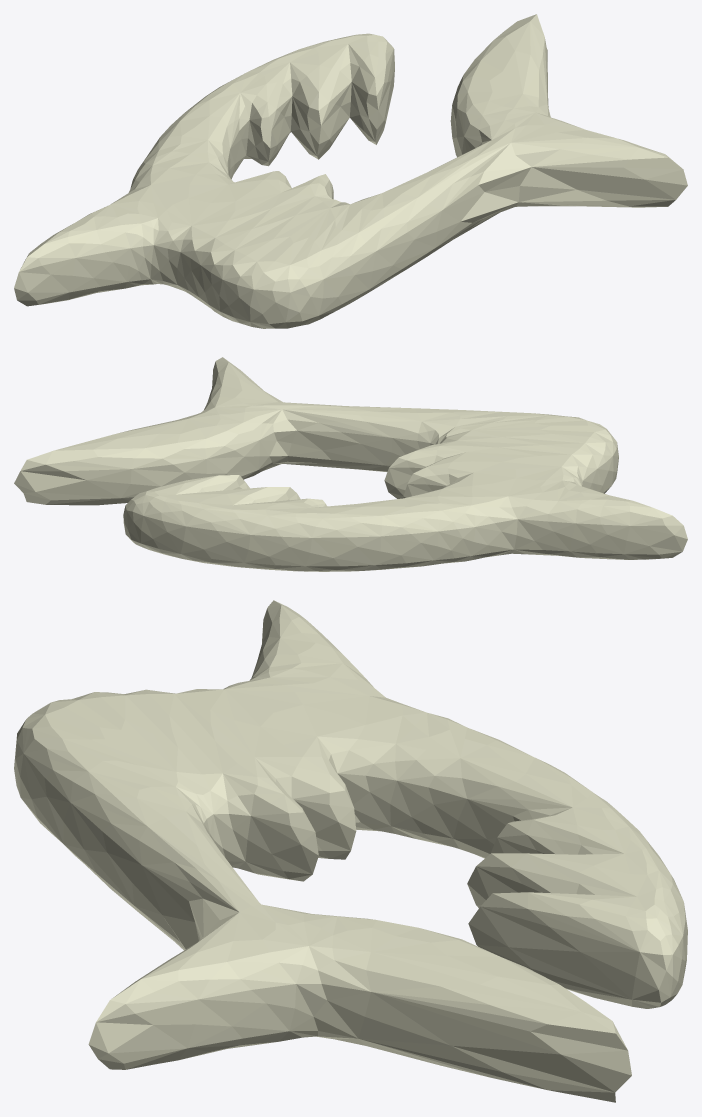
File: n_shark_6.obj
3 renders of one model, top to bottom at view 1: azimuth 30°, elevation 25°; view 2: azimuth 150°, elevation 25°; view 3: azimuth 270°, elevation 25°, orthographic. The views are drawn at different scales.
Parts seen in each view (by area): view 1: Mesh1 Group1 Model; view 2: Mesh1 Group1 Model; view 3: Mesh1 Group1 Model.
Part boxes in pixels (<box>): Mesh1 Group1 Model: <box>14,14,687,328</box>; Mesh1 Group1 Model: <box>14,357,687,571</box>; Mesh1 Group1 Model: <box>14,600,687,1102</box>.
Size of the model in its own units: 155 by 14.81 by 98.04.
